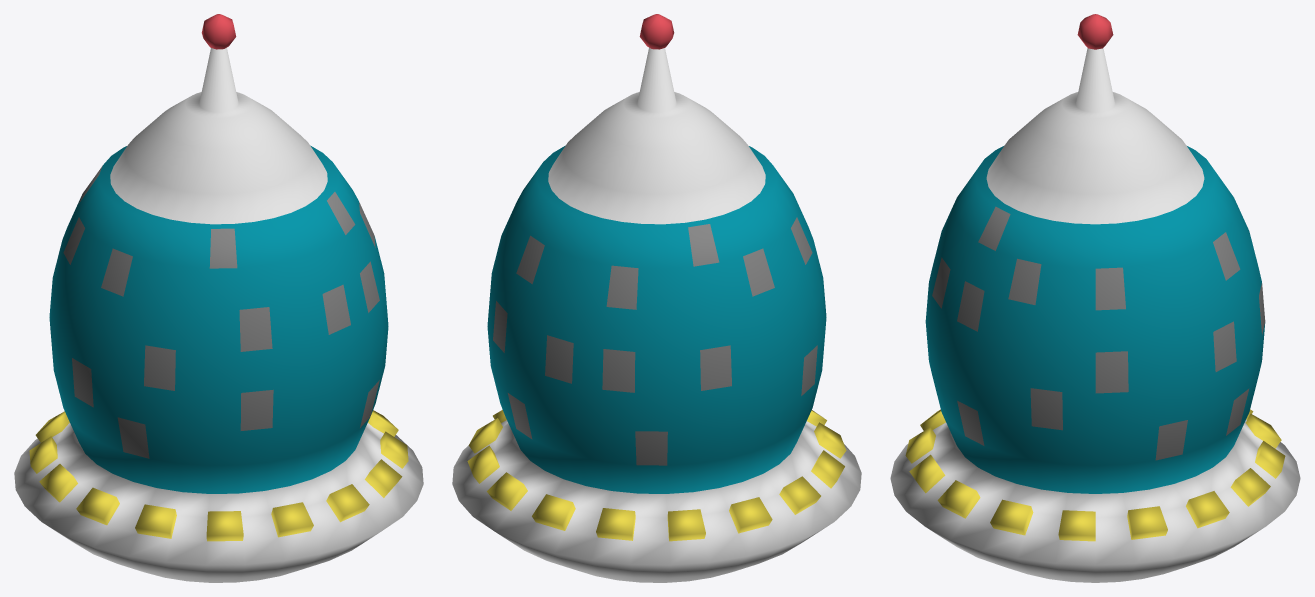
File: SpaceShipNew001.fbx
3 renders of one model, left to right at view 1: azimuth 30°, elevation 25°; view 2: azimuth 150°, elevation 25°; view 3: azimuth 270°, elevation 25°, orthographic.
Parts seen in each view (by area): view 1: Sphere; view 2: Sphere; view 3: Sphere.
Part boxes in pixels (x1,y1,x2,y2): Sphere: [14, 14, 423, 582]; Sphere: [452, 14, 861, 582]; Sphere: [890, 14, 1300, 582].
Size of the model in its own units: 241 by 241 by 347.
